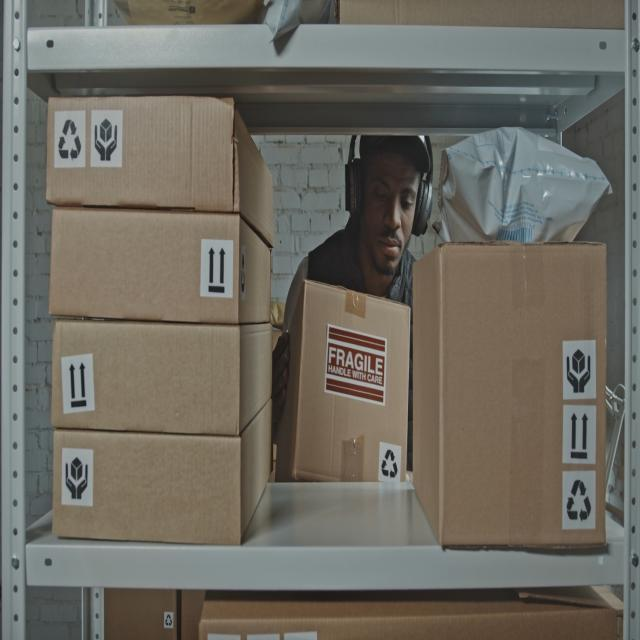counting-the-number-of-boxes: (412, 245, 606, 547), (48, 98, 274, 247), (52, 401, 273, 545), (275, 280, 410, 482), (48, 207, 271, 322), (52, 323, 273, 434)
